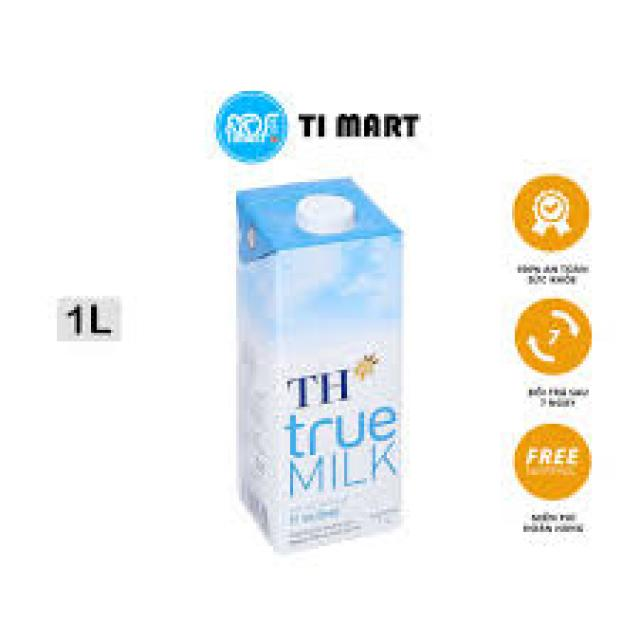non_white_jug: (221, 175, 408, 565)
